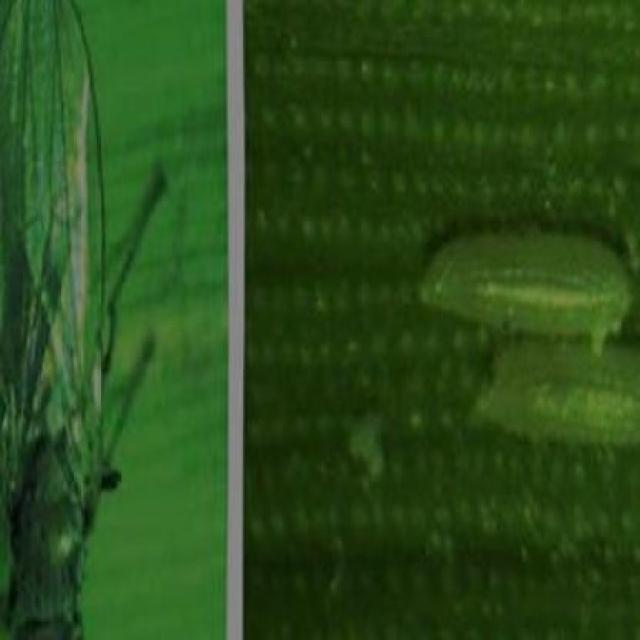whorl-maggot: (414, 215, 637, 340), (474, 344, 640, 450)
